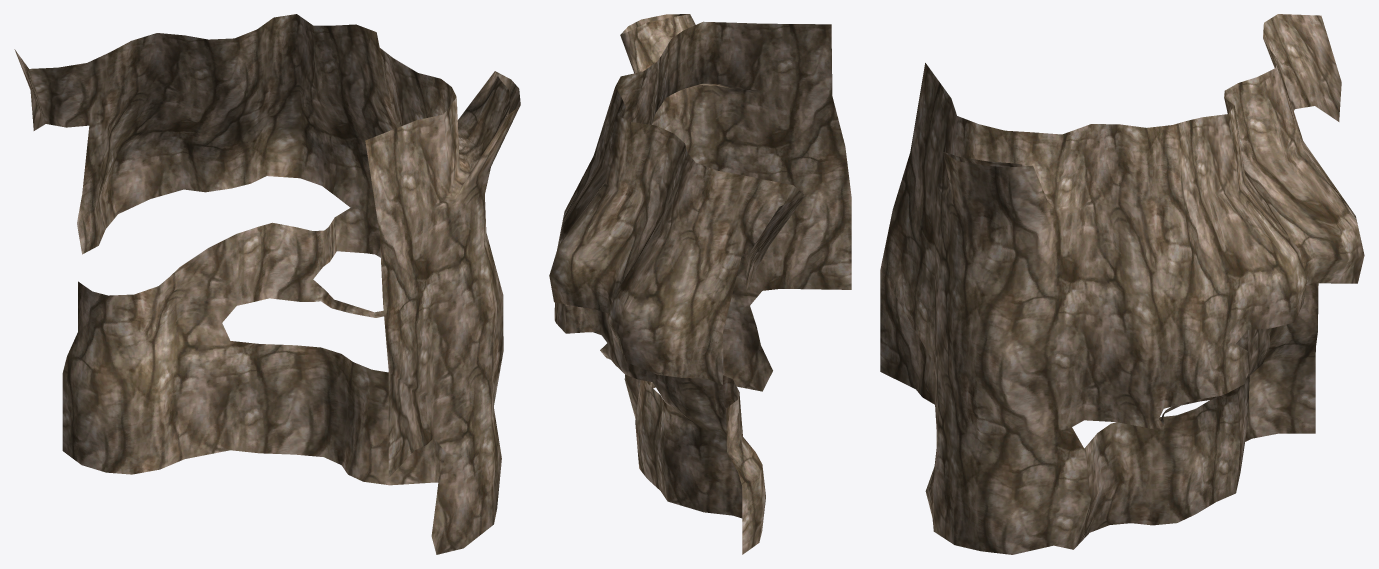
Rendered from EKH_GROTTO_PS_GR_OBJECT25.fbx.
3 views of the same model, side by side, from view 1: azimuth 30°, elevation 25°; view 2: azimuth 150°, elevation 25°; view 3: azimuth 270°, elevation 25° (orthographic). The views are drawn at different scales.
Visible parts, largest first — view 1: EKH_GROTTO_PS_GR_OBJECT25; view 2: EKH_GROTTO_PS_GR_OBJECT25; view 3: EKH_GROTTO_PS_GR_OBJECT25.
Part boxes in pixels (x1,y1,x2,y2): EKH_GROTTO_PS_GR_OBJECT25: (14,14,520,554); EKH_GROTTO_PS_GR_OBJECT25: (549,14,851,554); EKH_GROTTO_PS_GR_OBJECT25: (880,14,1364,554).
Bounding box in the file's own units: 117495 × 143046 × 149127.
1 material, 1 textured.
